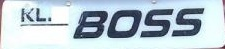character: (72, 9, 108, 39), (106, 9, 142, 38), (139, 8, 173, 37), (171, 7, 205, 36), (20, 7, 35, 22), (35, 6, 47, 22)
